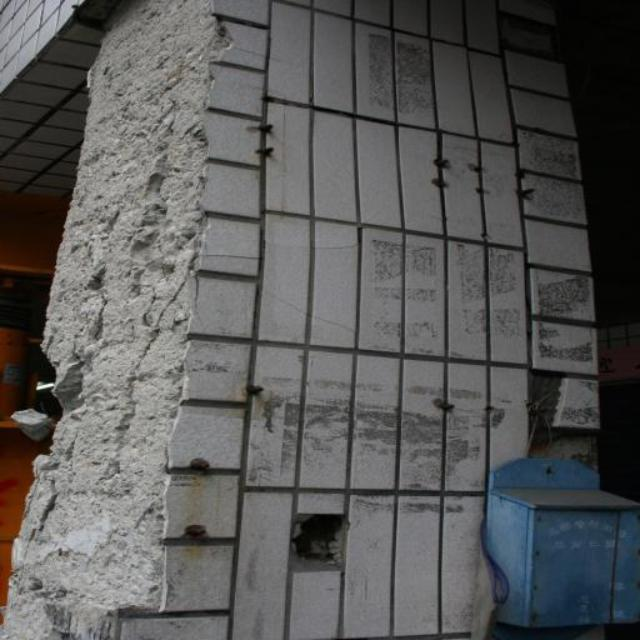D10: (10, 6, 221, 639)
